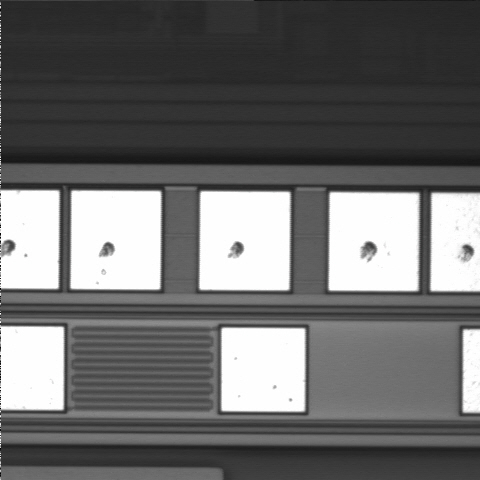pad: (200, 191, 290, 290), (329, 192, 419, 291), (71, 191, 161, 289), (222, 328, 305, 411)
